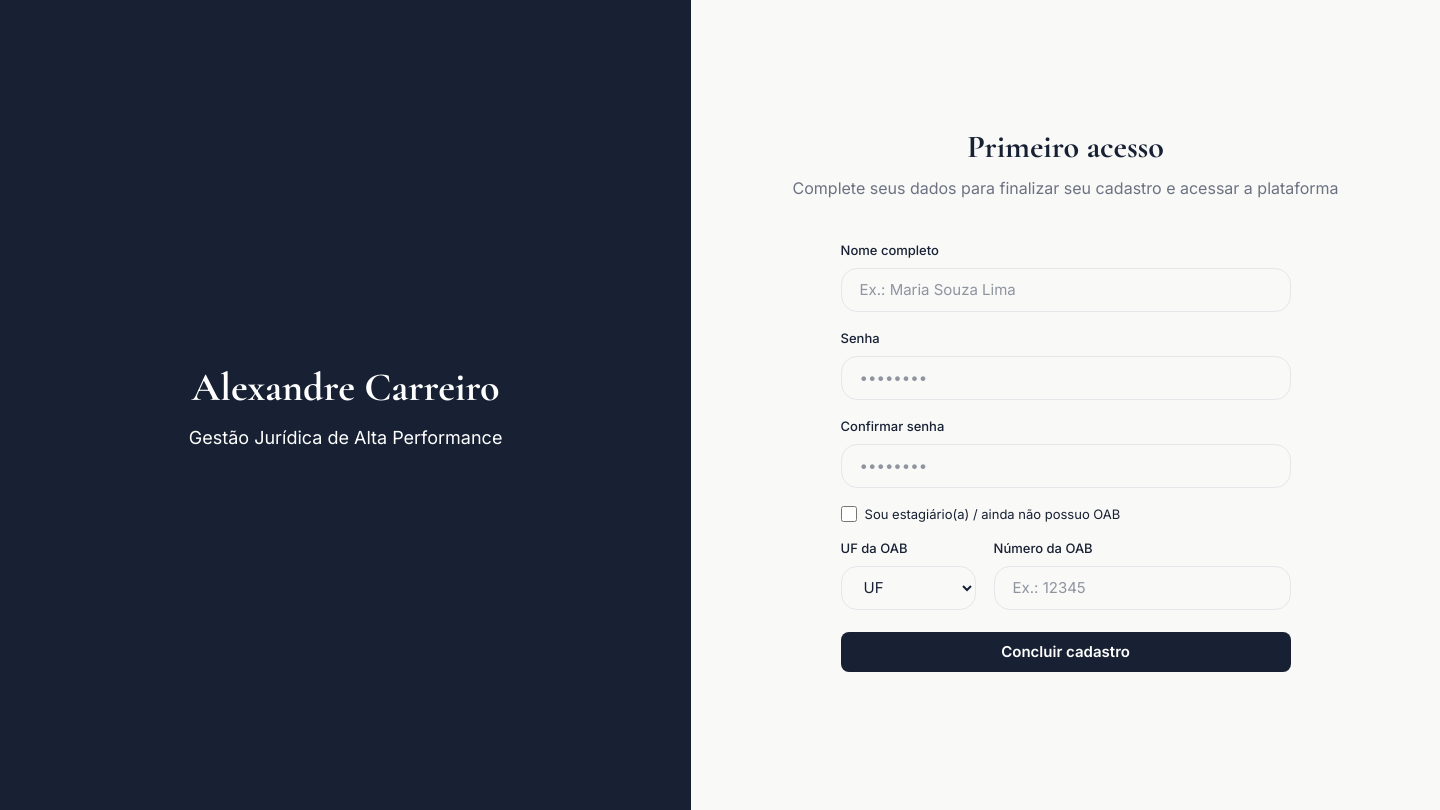
Test: Integração: Primeiro Acesso (FirstLoginPage + useFirstLogin + services/auth + fetch) › traduz e exibe erro da API na tela quando PATCH /funcionarios/primeiro-acesso retorna erro de validação 422 do Pydantic em numero_oab e uf_oab
The width and height of the screenshot is (1440, 810).
Type "Maria Souza Lima" into the field labelled "Nome completo" at (1066, 290), box [841,268,1291,312]
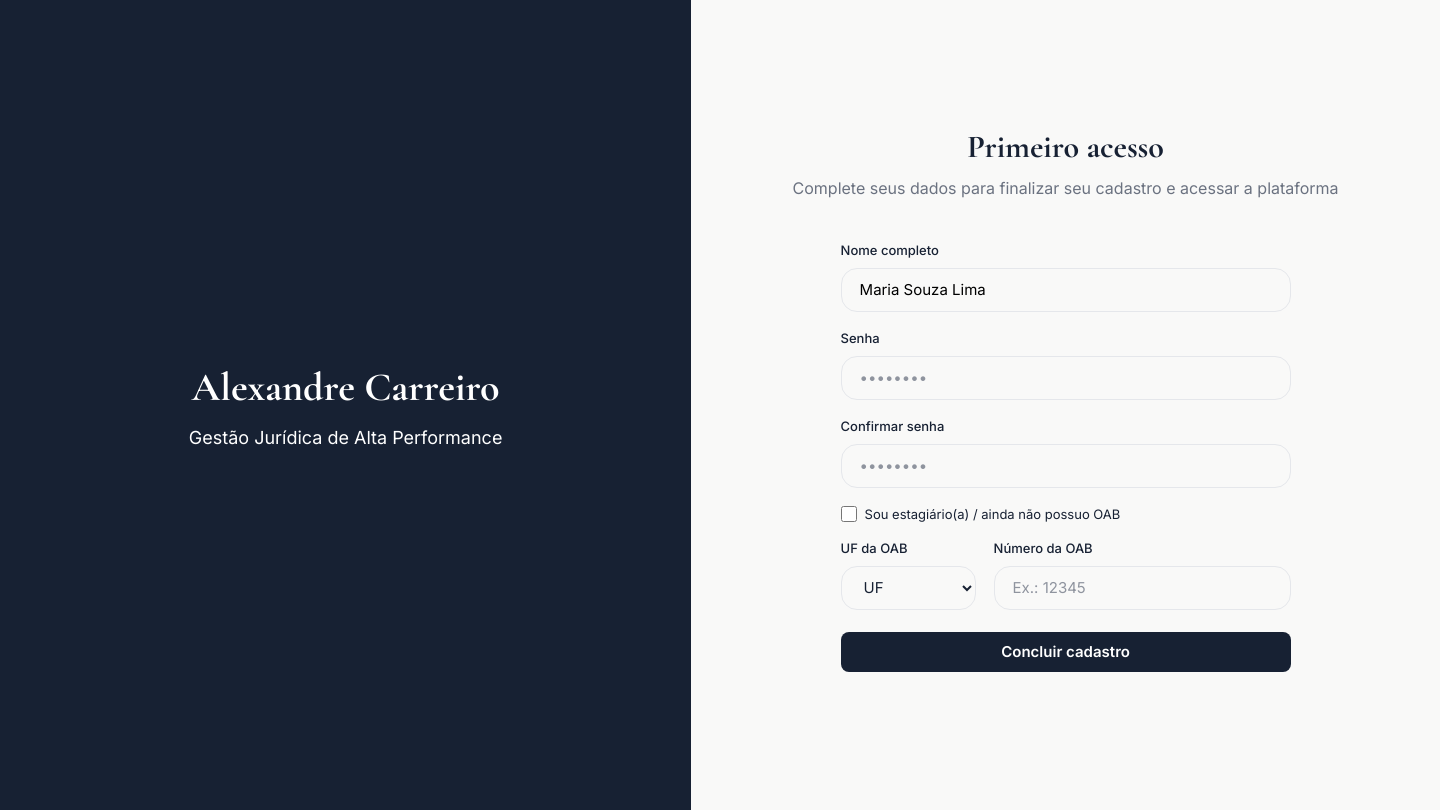
Type "SenhaForte@123" into the password field labelled "Senha" at (1066, 378), box [841,356,1291,400]
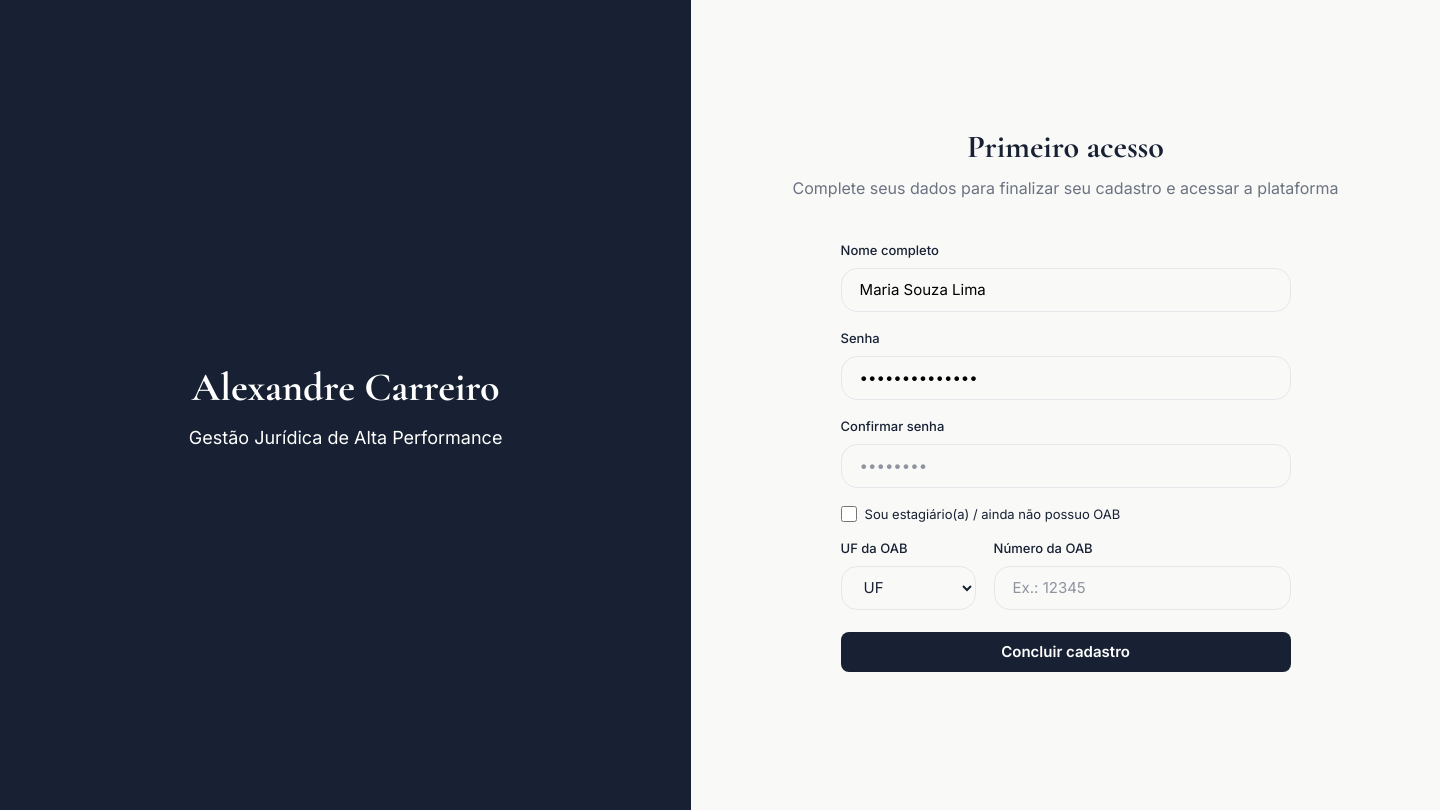
Type "SenhaForte@123" into the password field labelled "Confirmar senha" at (1066, 466), box [841,444,1291,488]
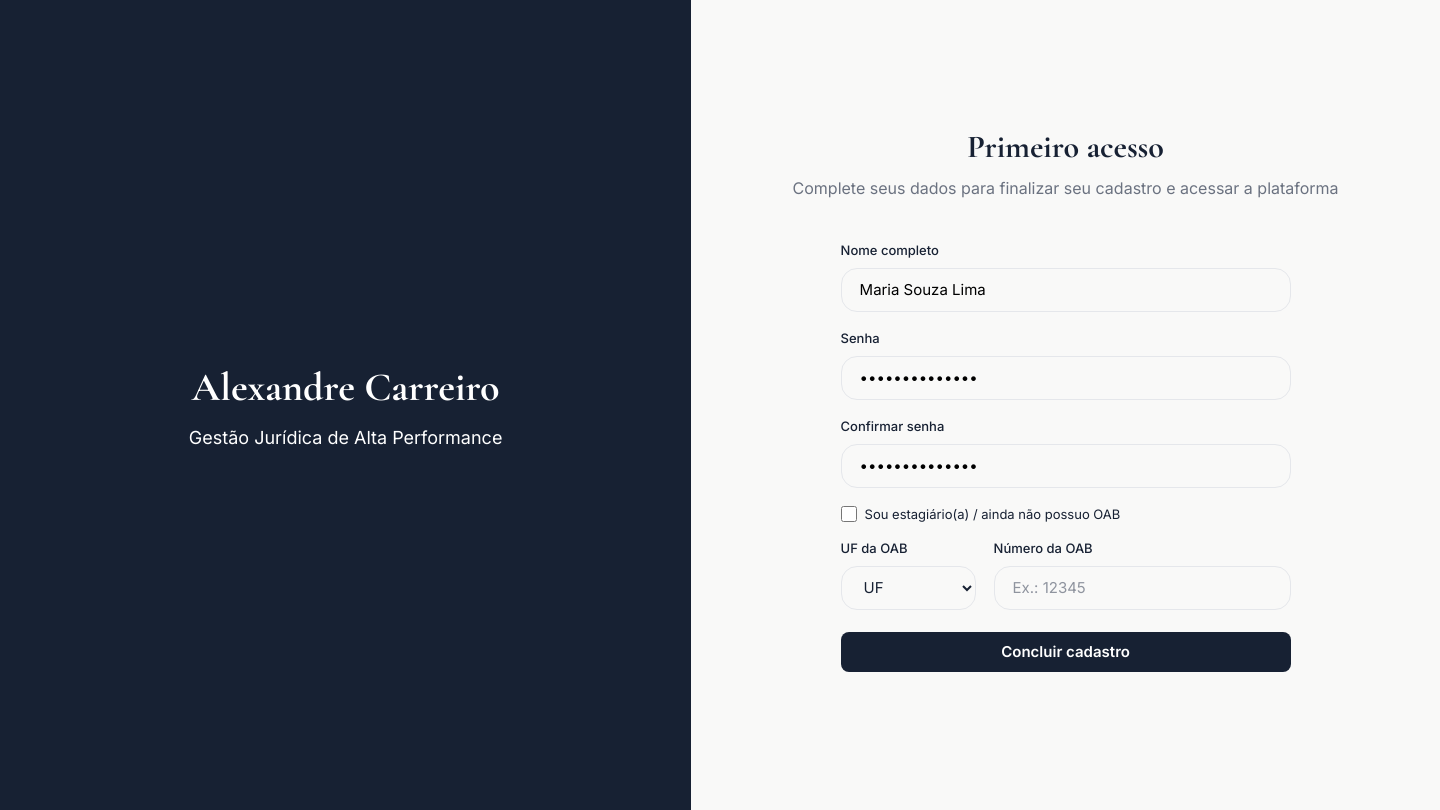
Select "DF" in the dropdown labelled "UF da OAB" at (908, 588), box [841,566,976,610]
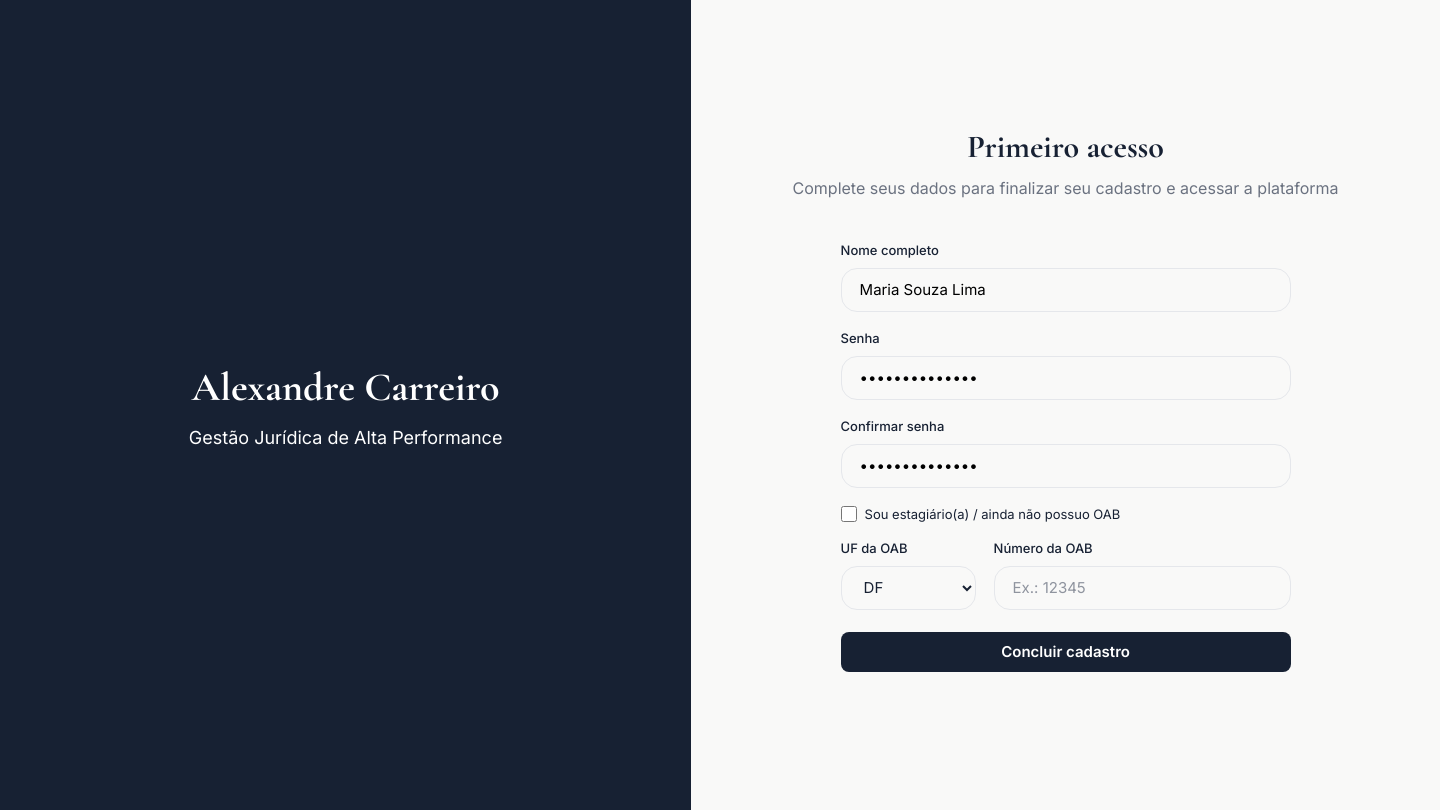
Type "12345" into the field labelled "Número da OAB" at (1142, 588), box [994,566,1291,610]
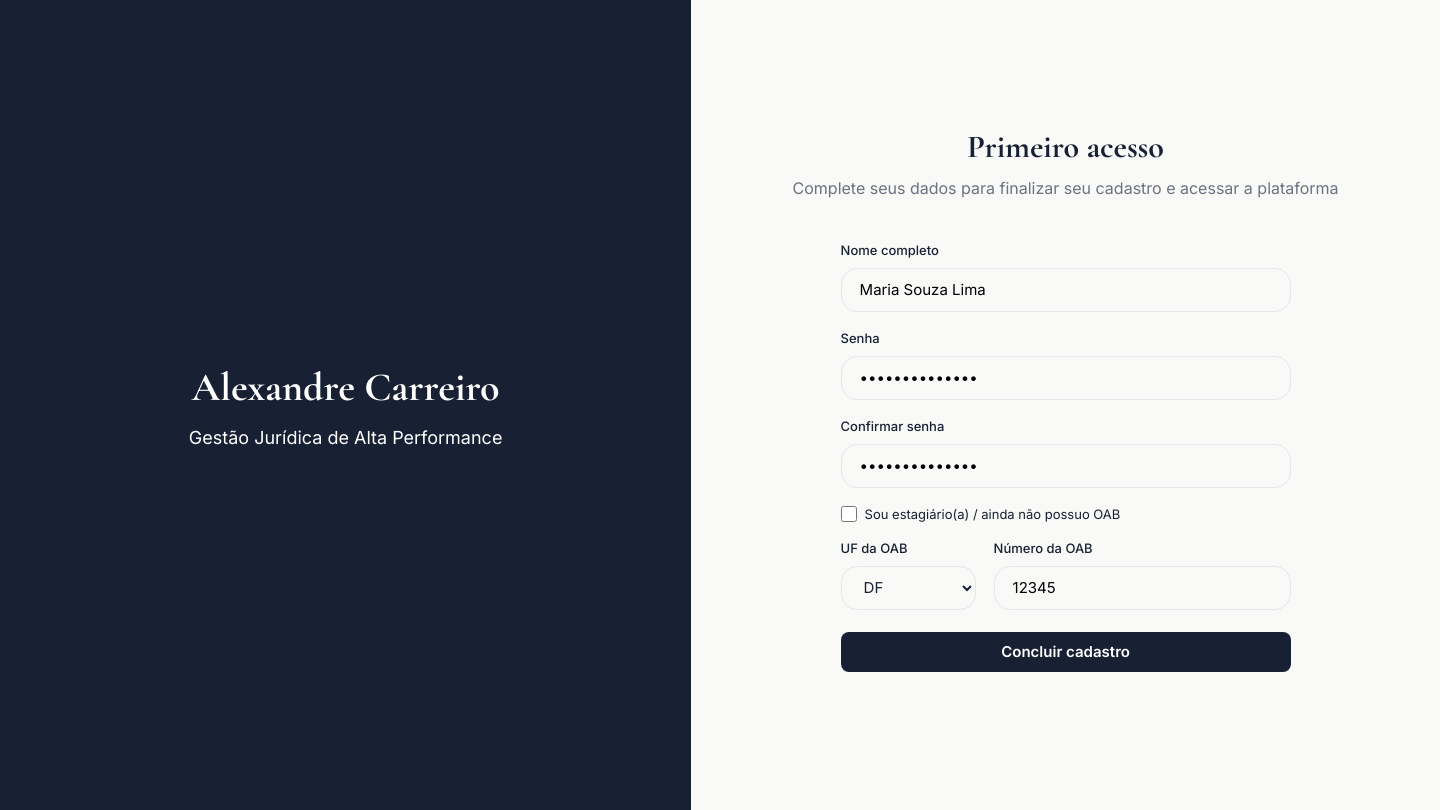
Click the button "Concluir cadastro" at (1066, 652), box [841,632,1291,672]
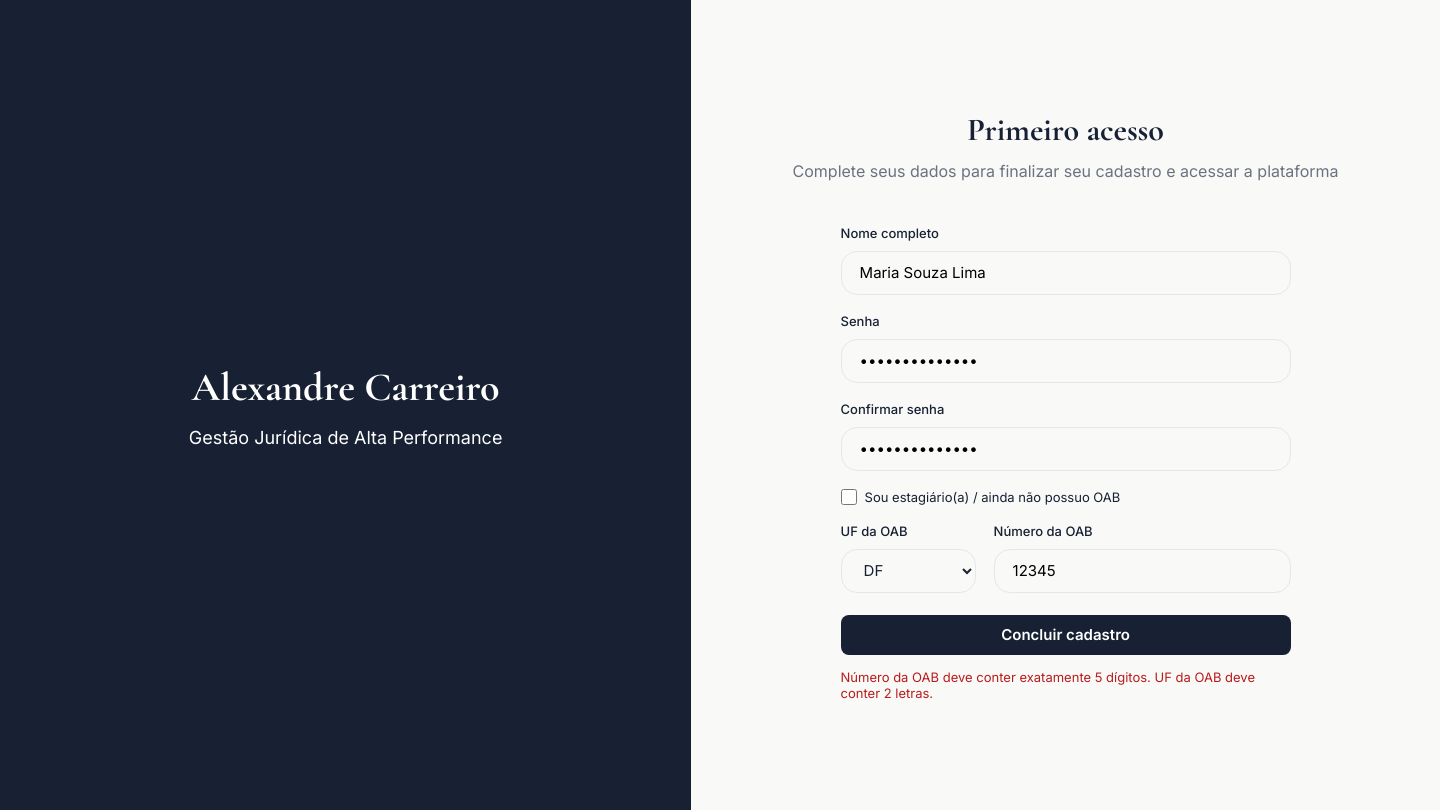
expect the text "Número da OAB deve conter exatamente 5 dígitos. UF da OAB deve conter 2 letras." is shown: met, box [841,668,1291,700]
